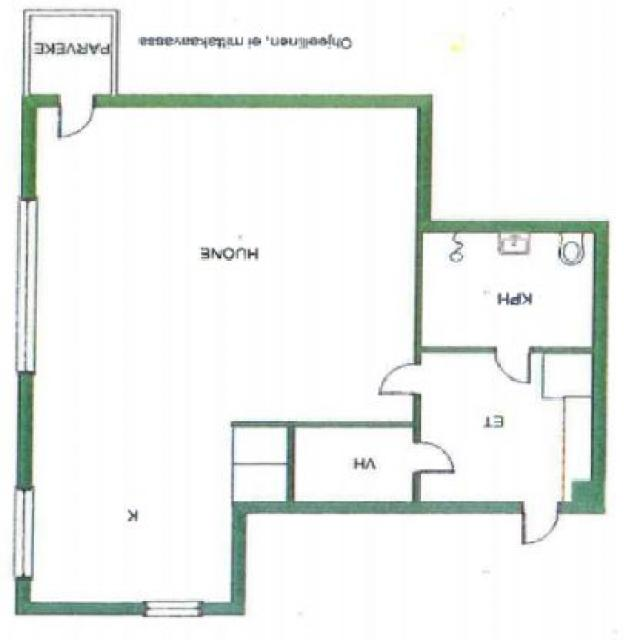door: (57, 95, 100, 140), (411, 440, 462, 477), (520, 503, 562, 545), (377, 362, 420, 400), (495, 348, 534, 388)
window: (20, 198, 34, 371), (15, 486, 32, 580), (146, 601, 200, 617)
zone: (34, 108, 414, 602), (418, 352, 602, 502), (423, 234, 591, 348), (295, 425, 414, 503), (28, 15, 110, 97)
